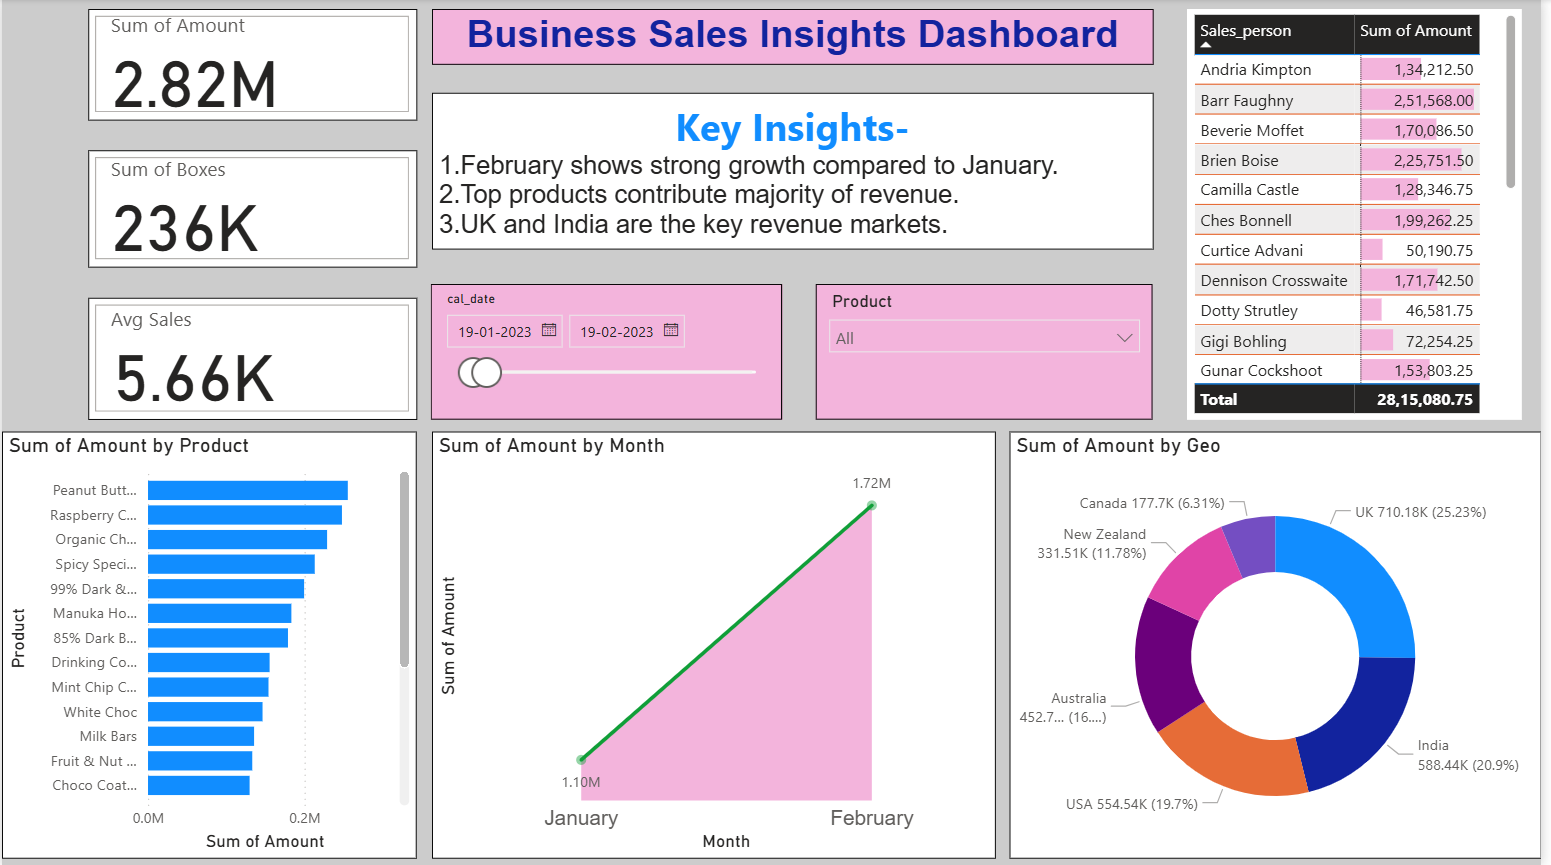

Layout of this report page (visuals, bound fields, positions):
{"tool":"powerbi","page":{"name":"Page 1","canvas":[1280,720],"ordinal":0},"visuals":[{"type":"lineChart","fields":{"Category":["calendar.cal_date.Variation.Date Hierarchy.Month","calendar.cal_date.Variation.Date Hierarchy.Day"],"Y":["Sum(shipments.Amount)"]},"box":[357.5,360,468.8,355],"z":0},{"type":"donutChart","fields":{"Category":["locations.Geo"],"Y":["Sum(shipments.Amount)"]},"box":[837.5,360,442.5,355],"z":1000},{"type":"tableEx","fields":{"Values":["people.Sales_person","Sum(shipments.Amount)"]},"box":[985,8.8,278.8,341.2],"z":2000},{"type":"barChart","fields":{"Category":["products.Product"],"Y":["Sum(shipments.Amount)"]},"box":[0,360,345,355],"z":3000},{"type":"cardVisual","fields":{"Data":["Sum(shipments.Amount)"]},"box":[71.7,8.3,273.3,92.5],"z":4000},{"type":"cardVisual","fields":{"Data":["Sum(shipments.Boxes)"]},"box":[71.7,125.8,273.3,97.7],"z":5000},{"type":"slicer","fields":{"Values":["calendar.cal_date"]},"box":[357,237.2,291.9,112.8],"z":6000},{"type":"textbox","box":[357.5,8.8,600,46.2],"z":7000},{"type":"textbox","box":[357.5,77.5,600,130],"z":8000},{"type":"slicer","fields":{"Values":["products.Product"]},"box":[676.7,237.2,280.2,112.8],"z":8001},{"type":"cardVisual","fields":{"Data":["Staff.Avg Sales"]},"box":[71.7,248.4,273.3,101.8],"z":8002}]}

Visuals, with their boxes in screenshot pixels (x1, y1, x2, y2), scaled from the page's 1280x720 canvas onto the 1551x865 screenshot:
lineChart - calendar.cal_date.Variation.Date Hierarchy.Month x calendar.cal_date.Variation.Date Hierarchy.Day: bbox=(433, 432, 1001, 859)
donutChart - locations.Geo x Sum(shipments.Amount): bbox=(1015, 432, 1550, 859)
tableEx - people.Sales_person x Sum(shipments.Amount): bbox=(1194, 11, 1531, 420)
barChart - products.Product x Sum(shipments.Amount): bbox=(0, 432, 418, 859)
cardVisual - Sum(shipments.Amount): bbox=(87, 10, 418, 121)
cardVisual - Sum(shipments.Boxes): bbox=(87, 151, 418, 269)
slicer - calendar.cal_date: bbox=(433, 285, 786, 420)
textbox: bbox=(433, 11, 1160, 66)
textbox: bbox=(433, 93, 1160, 249)
slicer - products.Product: bbox=(820, 285, 1159, 420)
cardVisual - Staff.Avg Sales: bbox=(87, 298, 418, 421)
